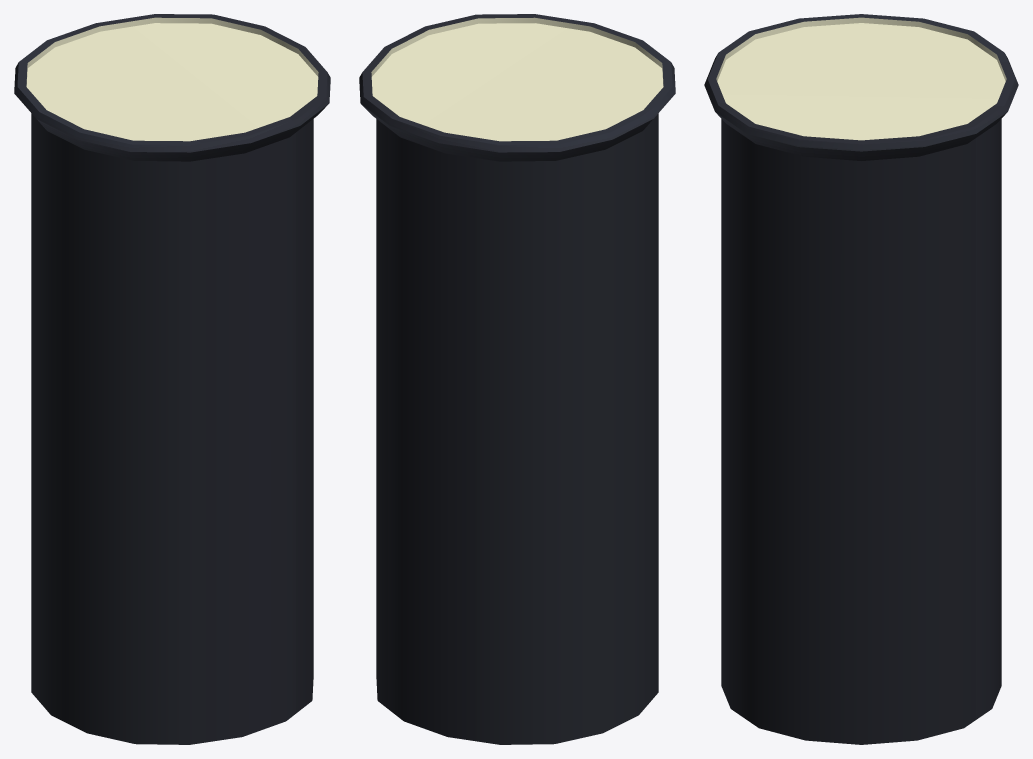
Rendered from SM_circleFloor.fbx.
The picture shows the model from 3 angles, left to right: view 1: azimuth 30°, elevation 25°; view 2: azimuth 150°, elevation 25°; view 3: azimuth 270°, elevation 25°; orthographic projection.
Visible parts, largest first — view 1: floor_central; view 2: floor_central; view 3: floor_central.
Part boxes in pixels (box(x1,y1,x2,y2)): floor_central: box(14, 14, 330, 744); floor_central: box(359, 14, 675, 744); floor_central: box(704, 14, 1018, 744).
Size of the model in its own units: 1333 by 2874 by 1333.
